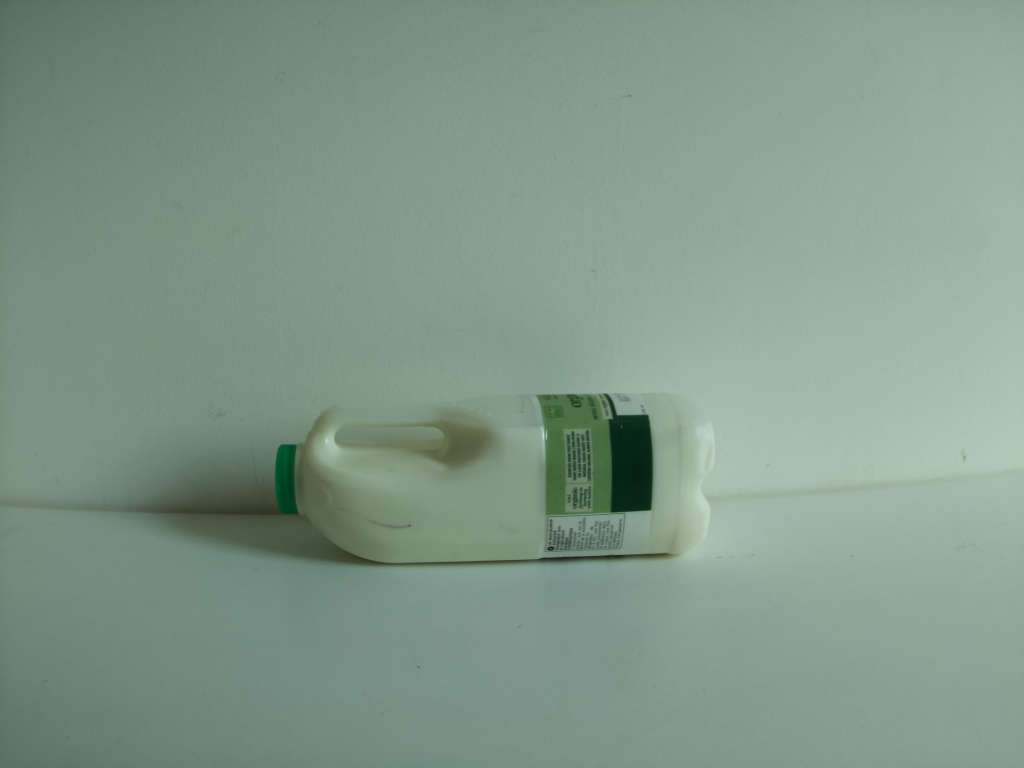milk: (270, 389, 722, 566)
